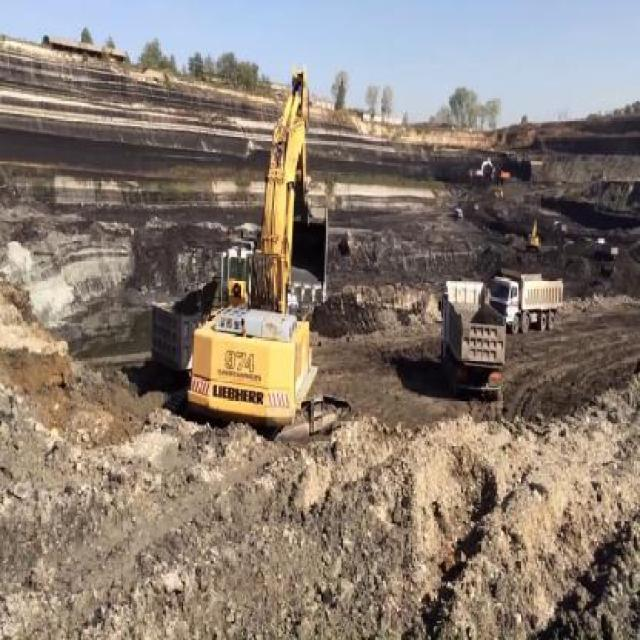dump_truck: (441, 281, 505, 397), (488, 266, 562, 329), (149, 289, 200, 371)
excavator: (186, 58, 349, 434), (526, 216, 540, 253), (466, 157, 492, 175)
